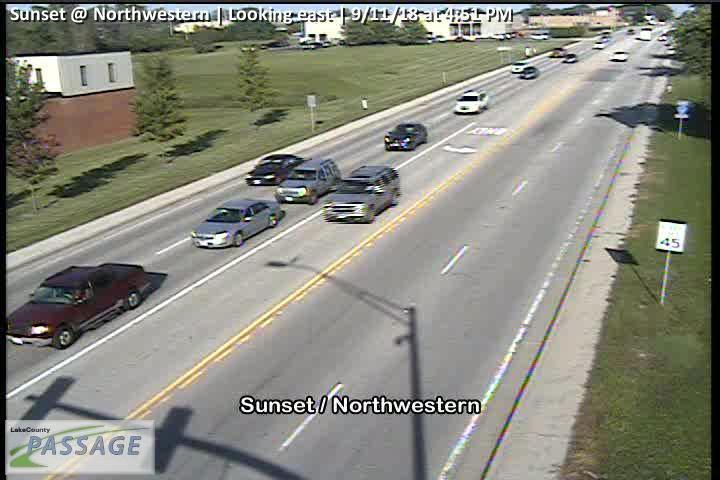SUV: (323, 165, 401, 221), (276, 158, 340, 204), (453, 89, 488, 114), (511, 60, 528, 73)
Sedan: (192, 198, 280, 248), (245, 154, 304, 185), (384, 123, 428, 151), (521, 66, 537, 79), (613, 51, 629, 60), (552, 47, 566, 57), (562, 54, 576, 63), (593, 41, 605, 49)
Truck: (6, 263, 153, 350), (640, 26, 654, 40)
